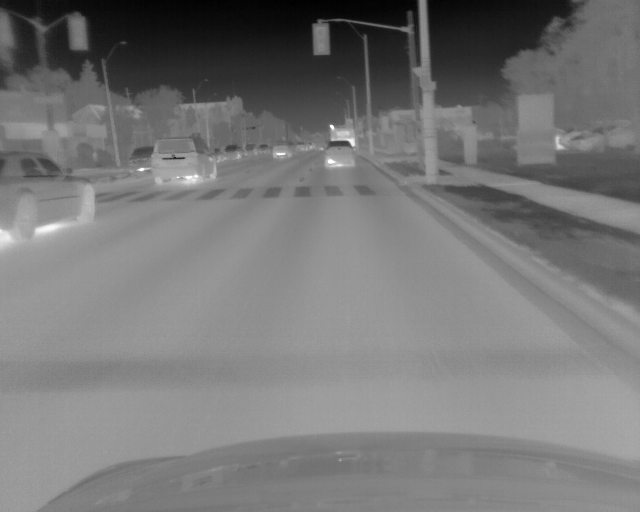car: (1, 151, 96, 243), (152, 134, 215, 184), (559, 118, 634, 151), (324, 141, 356, 168), (128, 144, 152, 178), (329, 124, 354, 141), (272, 141, 291, 159), (225, 144, 242, 160), (257, 142, 270, 155), (243, 143, 255, 156), (294, 140, 307, 151)
